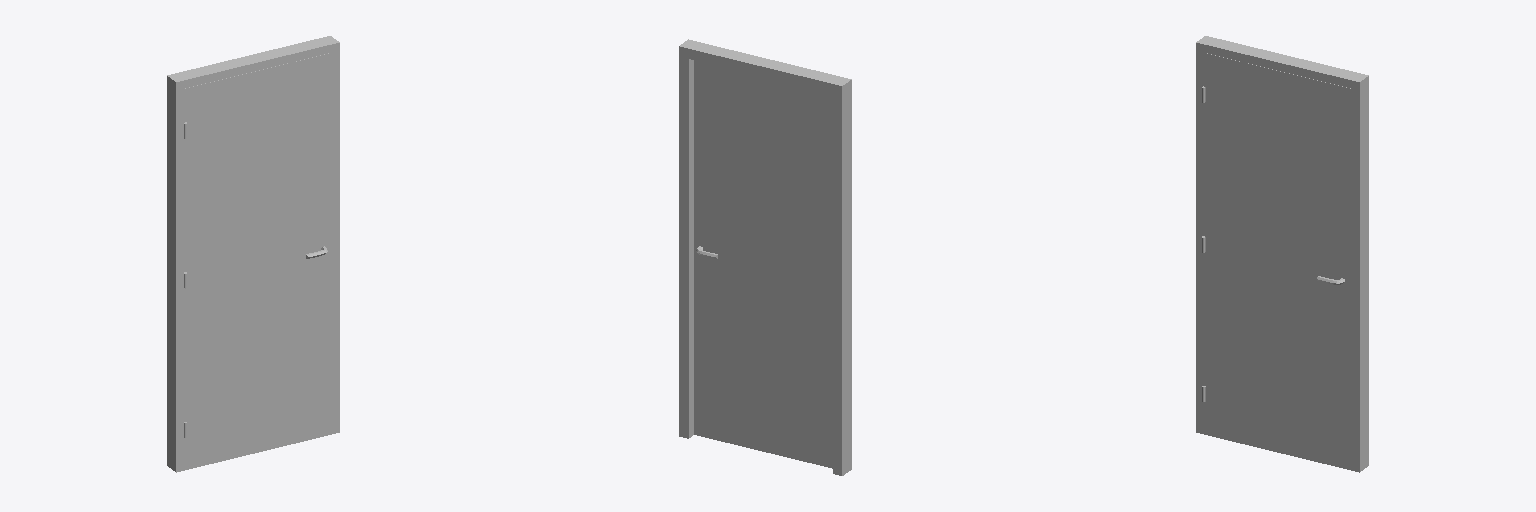
Rendered from door.obj.
3 renders of one model, left to right at view 1: azimuth 30°, elevation 25°; view 2: azimuth 150°, elevation 25°; view 3: azimuth 330°, elevation 25°, orthographic.
Parts seen in each view (by area): view 1: Porte_5, Montant_6; view 2: Porte_5, Montant_6; view 3: Porte_5, Montant_6.
Boxes of the visible parts, x1=… form: Porte_5: x1=184, y1=53, x2=331, y2=470; Montant_6: x1=167, y1=36, x2=339, y2=472; Porte_5: x1=694, y1=60, x2=832, y2=468; Montant_6: x1=679, y1=39, x2=851, y2=475; Porte_5: x1=1204, y1=53, x2=1351, y2=470; Montant_6: x1=1196, y1=36, x2=1368, y2=472.
Bounding box in the file's own units: 91.4 × 208 × 14.6.